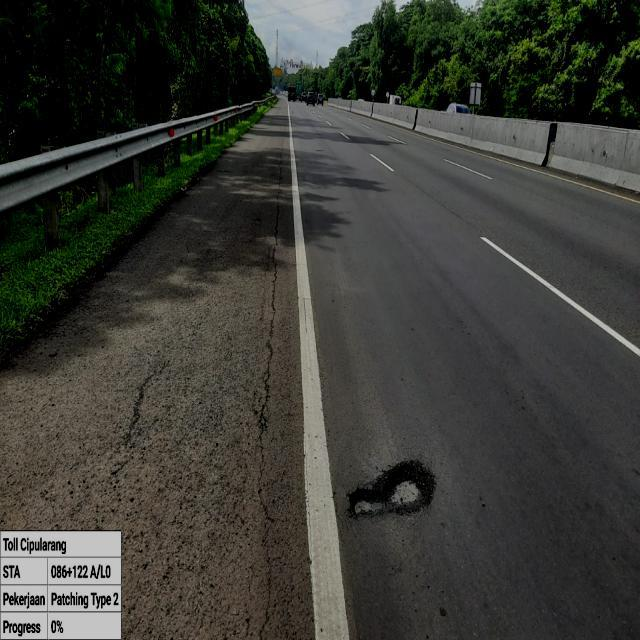Buraco: (342, 458, 440, 522), (213, 167, 236, 175)
